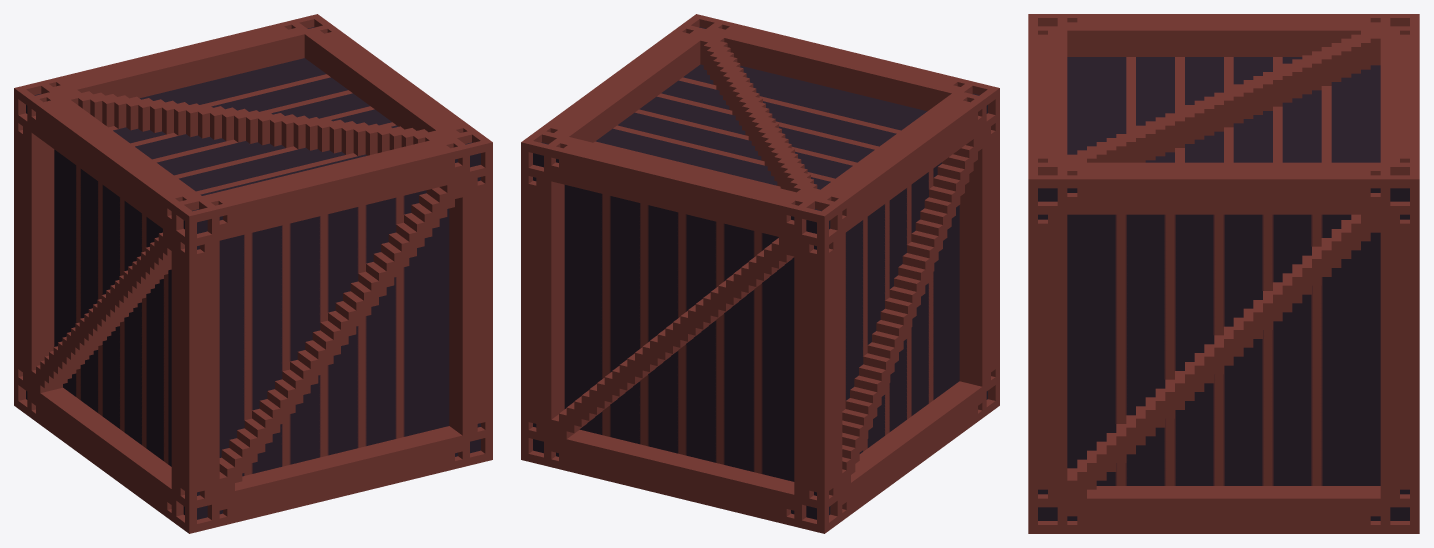
File: WoodenCrate.fbx
3 views of the same model, side by side, from view 1: azimuth 30°, elevation 25°; view 2: azimuth 150°, elevation 25°; view 3: azimuth 270°, elevation 25° (orthographic). The views are drawn at different scales.
Parts seen in each view (by area): view 1: Object; view 2: Object; view 3: Object.
Part boxes in pixels (bbox=[...]): Object: bbox=[14, 14, 492, 533]; Object: bbox=[521, 14, 999, 533]; Object: bbox=[1028, 14, 1419, 533].
Size of the model in its own units: 40 by 40 by 40.
